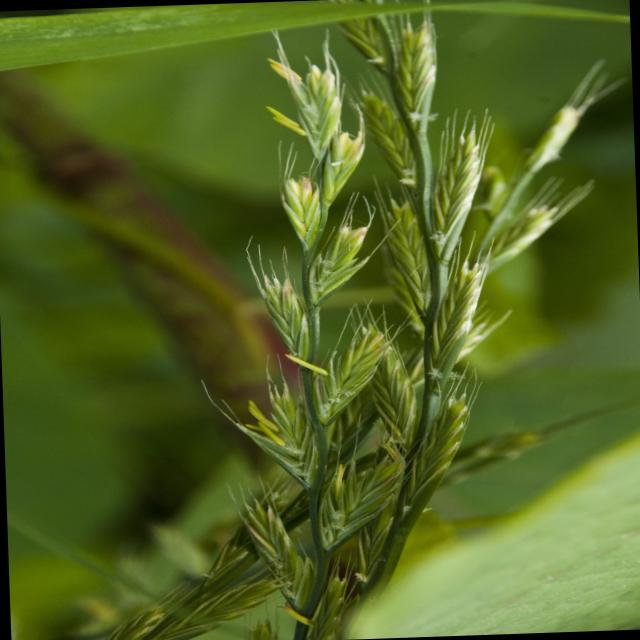Lolium: (63, 0, 638, 640)
